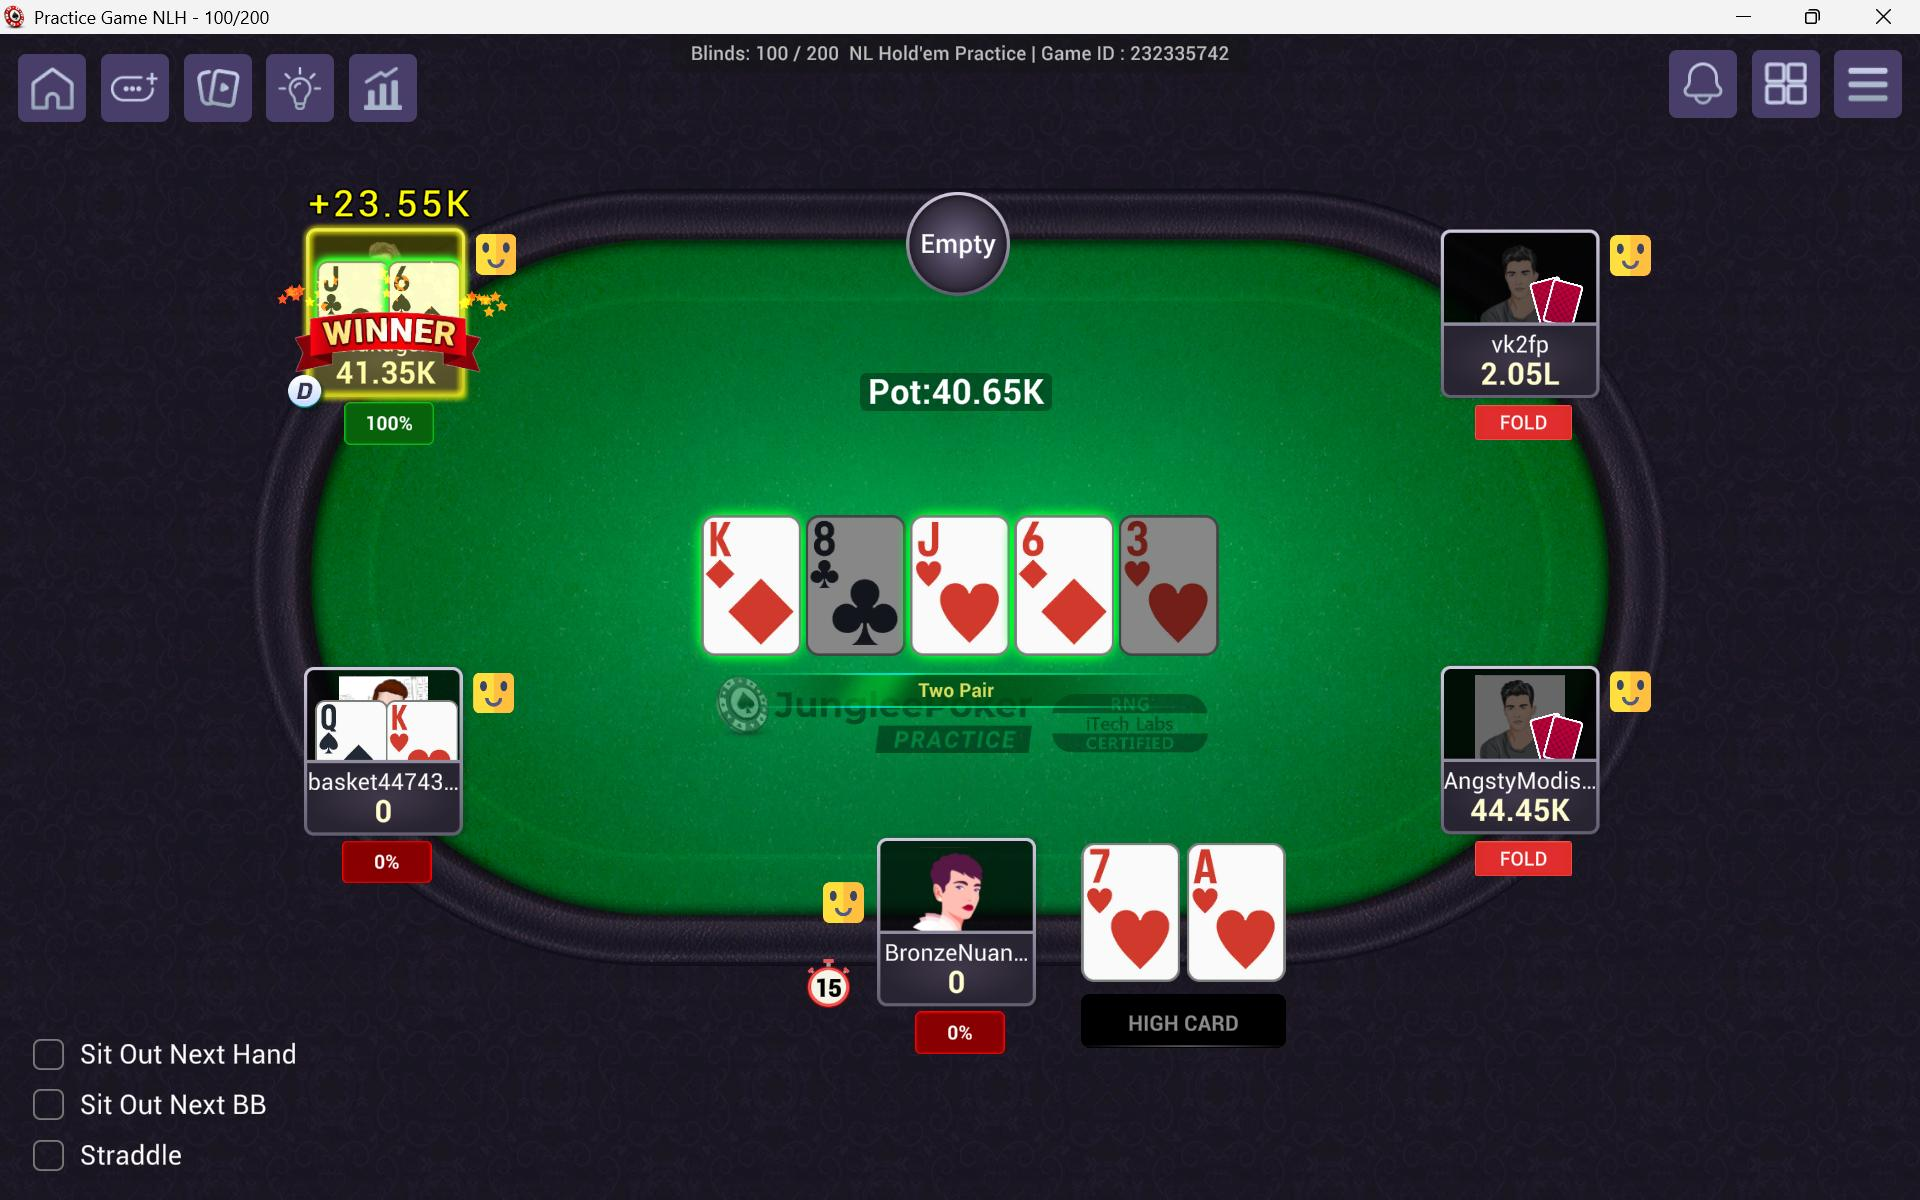card1_rank: (1085, 847, 1132, 890)
card1_suite_heart: (1092, 903, 1178, 983)
card2_rank: (1185, 847, 1240, 894)
card2_suite_heart: (1205, 906, 1280, 983)
flop1_rank: (705, 513, 777, 567)
flop1_suite_diamond: (724, 563, 795, 655)
flop2_rank: (807, 513, 894, 563)
flop2_suite_club: (825, 560, 900, 650)
flop3_rank: (915, 510, 995, 567)
flop3_suite_heart: (930, 581, 1005, 653)
game_id: (1038, 43, 1250, 71)
my_stack: (918, 962, 992, 1005)
river_rank: (1125, 517, 1187, 585)
river_suite_heart: (1145, 567, 1215, 655)
total_pot: (863, 375, 1057, 412)
turn_rank: (1020, 517, 1091, 570)
turn_suite_diamond: (1038, 575, 1113, 653)
villian1_name: (310, 765, 463, 789)
villian1_stack: (343, 798, 415, 828)
villian4_name: (1447, 319, 1595, 359)
villian4_stack: (1468, 362, 1570, 393)
villian5_name: (1443, 755, 1602, 795)
villian5_stack: (1453, 789, 1585, 835)
winner: (303, 225, 470, 400)
